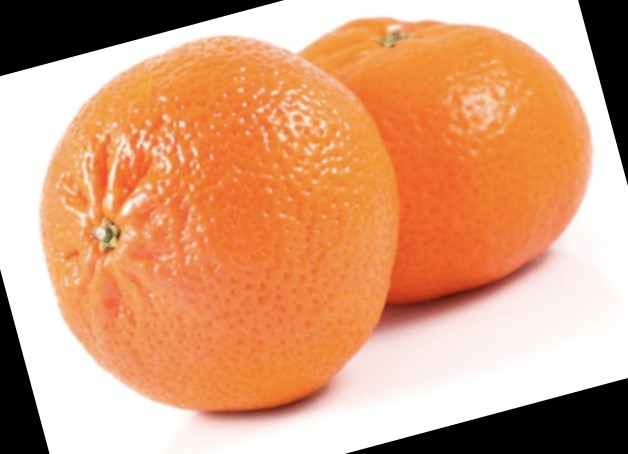fresh_orange: (36, 32, 398, 416), (287, 15, 596, 308)
